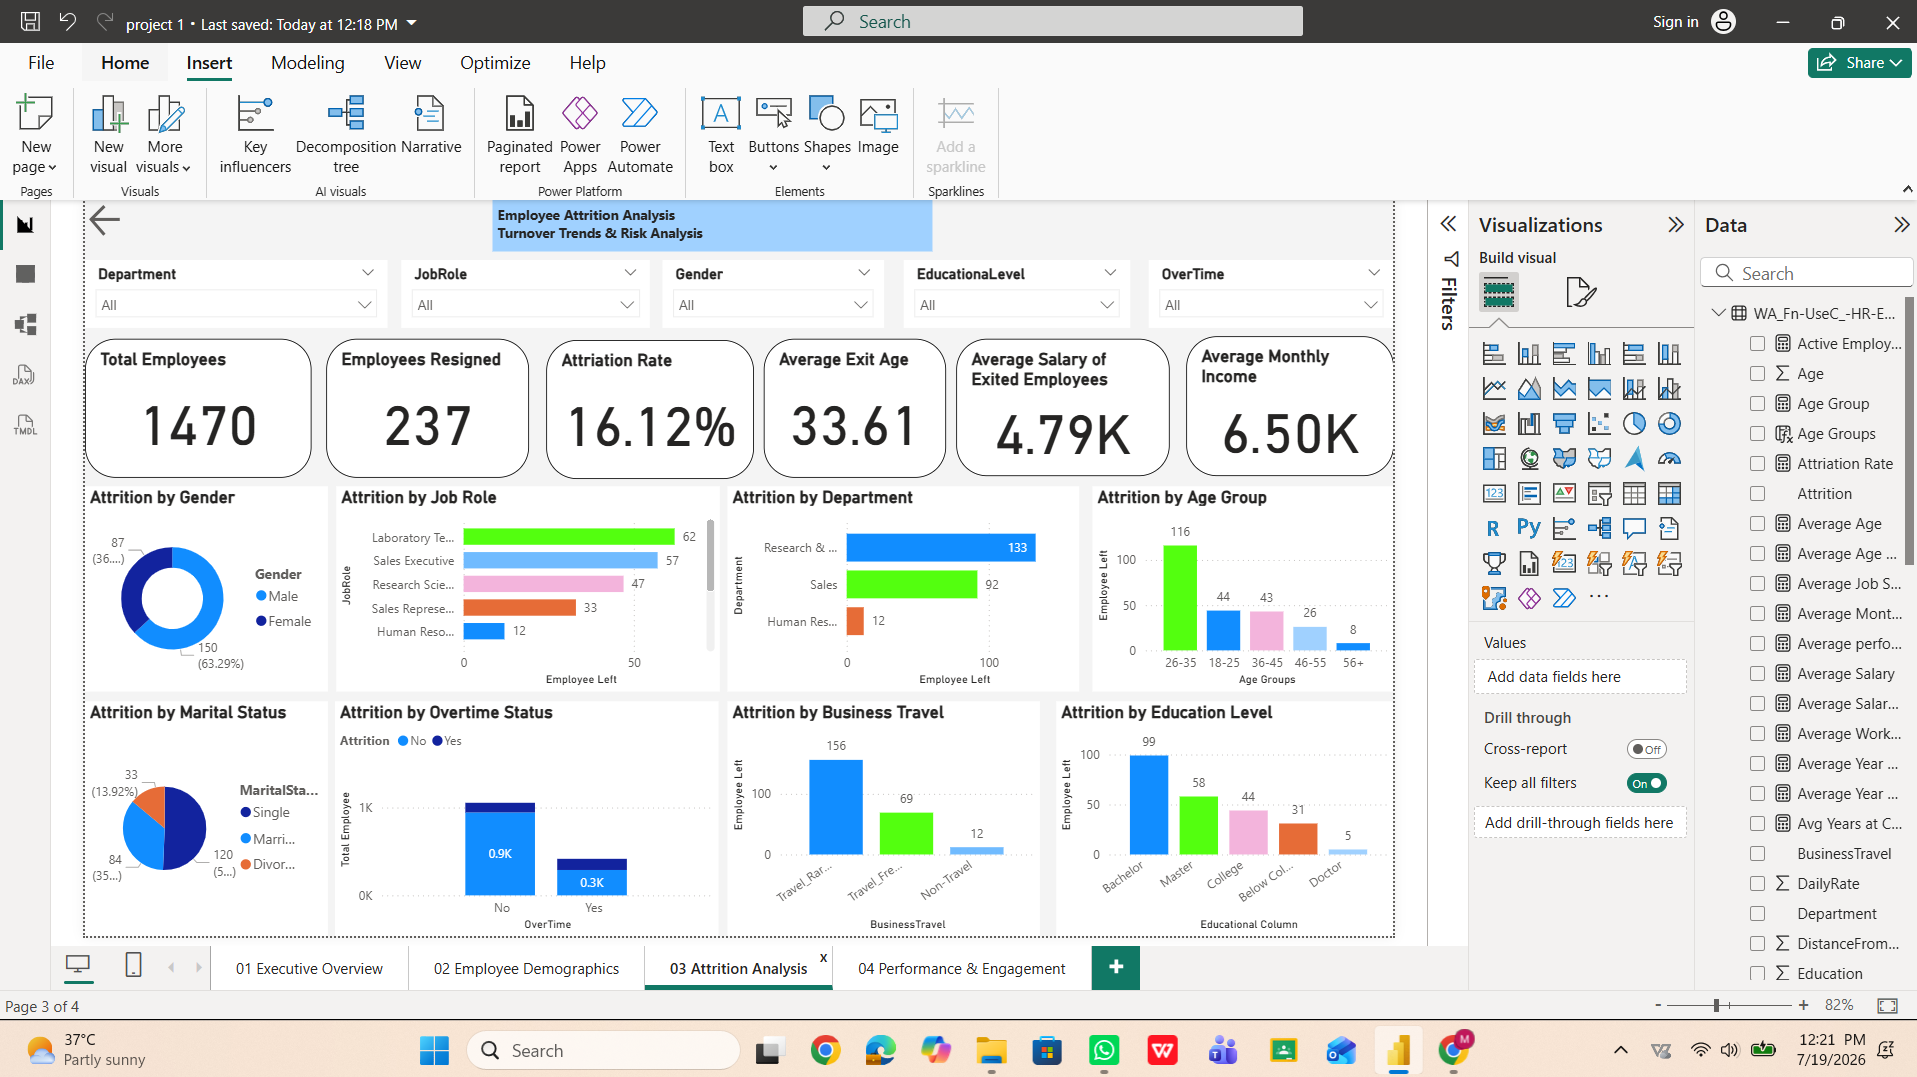

This screenshot's page, from the dashboard's own definition file:
{"tool":"powerbi","page":{"name":"03 Attrition Analysis","canvas":[1280,720],"ordinal":2},"visuals":[{"type":"slicer","fields":{"Values":["WA_Fn-UseC_-HR-Employee-Attrition.Department"]},"box":[0,58.7,295.9,66],"z":0},{"type":"slicer","fields":{"Values":["WA_Fn-UseC_-HR-Employee-Attrition.Gender"]},"box":[564.9,58.7,216.4,66],"z":1000},{"type":"slicer","fields":{"Values":["WA_Fn-UseC_-HR-Employee-Attrition.OverTime"]},"box":[1040.6,58.7,239.7,66],"z":2000},{"type":"slicer","fields":{"Values":["WA_Fn-UseC_-HR-Employee-Attrition.JobRole"]},"box":[309.4,58.7,243.3,66],"z":3000},{"type":"slicer","fields":{"Values":["WA_Fn-UseC_-HR-Employee-Attrition.Educational Column "]},"box":[801,58.7,221.3,66],"z":4000},{"type":"card","title":"Employees Resigned","fields":{"Values":["WA_Fn-UseC_-HR-Employee-Attrition.Employee Left"]},"box":[236,135.7,198.1,135.7],"z":5000},{"type":"card","title":"Attriation Rate ","fields":{"Values":["WA_Fn-UseC_-HR-Employee-Attrition.Attriation Rate"]},"box":[451.2,137,203,135.7],"z":6000},{"type":"card","title":"Average Exit Age ","fields":{"Values":["WA_Fn-UseC_-HR-Employee-Attrition.Average Age Left"]},"box":[664,135.7,178.5,135.7],"z":7000},{"type":"card","title":"Total Employees","fields":{"Values":["WA_Fn-UseC_-HR-Employee-Attrition.Total Employee"]},"box":[0,135.7,221.3,135.7],"z":8000},{"type":"card","title":"Average Salary of Exited Employees","fields":{"Values":["WA_Fn-UseC_-HR-Employee-Attrition.Average Salary Left"]},"box":[852.3,135.7,209.1,134.5],"z":9000},{"type":"card","title":"Average Monthly Income","fields":{"Values":["WA_Fn-UseC_-HR-Employee-Attrition.Average Monthly Income"]},"box":[1077.3,133.3,203,137],"z":10000},{"type":"clusteredBarChart","title":"Attrition by Department","fields":{"Category":["WA_Fn-UseC_-HR-Employee-Attrition.Department"],"Y":["WA_Fn-UseC_-HR-Employee-Attrition.Employee Left"]},"box":[628.5,280,343.6,200.5],"z":11000},{"type":"clusteredBarChart","title":"Attrition by Job Role","fields":{"Category":["WA_Fn-UseC_-HR-Employee-Attrition.JobRole"],"Y":["WA_Fn-UseC_-HR-Employee-Attrition.Employee Left"]},"box":[245.8,280,375.4,200.5],"z":12000},{"type":"columnChart","title":"Attrition by Age Group","fields":{"Category":["WA_Fn-UseC_-HR-Employee-Attrition.Age Groups"],"Y":["WA_Fn-UseC_-HR-Employee-Attrition.Employee Left"]},"box":[985.6,280,294.7,200.5],"z":13000},{"type":"columnChart","title":"Attrition by Overtime Status","fields":{"Category":["WA_Fn-UseC_-HR-Employee-Attrition.OverTime"],"Series":["WA_Fn-UseC_-HR-Employee-Attrition.Attrition"],"Y":["WA_Fn-UseC_-HR-Employee-Attrition.Total Employee"]},"box":[244.6,490.4,375.4,229.9],"z":14000},{"type":"donutChart","title":"Attrition by Gender","fields":{"Category":["WA_Fn-UseC_-HR-Employee-Attrition.Gender"],"Y":["WA_Fn-UseC_-HR-Employee-Attrition.Employee Left"]},"box":[0,280,237.2,200.5],"z":15000},{"type":"pieChart","title":"Attrition by Marital Status","fields":{"Category":["WA_Fn-UseC_-HR-Employee-Attrition.MaritalStatus"],"Y":["WA_Fn-UseC_-HR-Employee-Attrition.Employee Left"]},"box":[0,490.4,237.2,229.9],"z":16000},{"type":"clusteredColumnChart","title":"Attrition by Business Travel","fields":{"Category":["WA_Fn-UseC_-HR-Employee-Attrition.BusinessTravel"],"Y":["WA_Fn-UseC_-HR-Employee-Attrition.Employee Left"]},"box":[628.5,490.4,305.7,229.9],"z":17000},{"type":"clusteredColumnChart","title":"Attrition by Education Level","fields":{"Category":["WA_Fn-UseC_-HR-Employee-Attrition.Educational Column "],"Y":["WA_Fn-UseC_-HR-Employee-Attrition.Employee Left"]},"box":[950.1,490.4,330.2,229.9],"z":18000},{"type":"textbox","box":[398.6,0,430.4,50.1],"z":18001},{"type":"actionButton","box":[0,0,100,40],"z":18002}]}

Visuals, with their boxes on the page's 1280x720 design canvas (x1, y1, x2, y2). These are canvas units, not pixel positions in the 1917x1077 screenshot, which may show the page scaled, cropped or inside an application window:
slicer - WA_Fn-UseC_-HR-Employee-Attrition.Department: box=[0, 59, 296, 125]
slicer - WA_Fn-UseC_-HR-Employee-Attrition.Gender: box=[565, 59, 781, 125]
slicer - WA_Fn-UseC_-HR-Employee-Attrition.OverTime: box=[1041, 59, 1280, 125]
slicer - WA_Fn-UseC_-HR-Employee-Attrition.JobRole: box=[309, 59, 553, 125]
slicer - WA_Fn-UseC_-HR-Employee-Attrition.Educational Column : box=[801, 59, 1022, 125]
"Employees Resigned" card: box=[236, 136, 434, 271]
"Attriation Rate " card: box=[451, 137, 654, 273]
"Average Exit Age " card: box=[664, 136, 842, 271]
"Total Employees" card: box=[0, 136, 221, 271]
"Average Salary of Exited Employees" card: box=[852, 136, 1061, 270]
"Average Monthly Income" card: box=[1077, 133, 1280, 270]
"Attrition by Department" clusteredBarChart: box=[628, 280, 972, 480]
"Attrition by Job Role" clusteredBarChart: box=[246, 280, 621, 480]
"Attrition by Age Group" columnChart: box=[986, 280, 1280, 480]
"Attrition by Overtime Status" columnChart: box=[245, 490, 620, 720]
"Attrition by Gender" donutChart: box=[0, 280, 237, 480]
"Attrition by Marital Status" pieChart: box=[0, 490, 237, 720]
"Attrition by Business Travel" clusteredColumnChart: box=[628, 490, 934, 720]
"Attrition by Education Level" clusteredColumnChart: box=[950, 490, 1280, 720]
textbox: box=[399, 0, 829, 50]
actionButton: box=[0, 0, 100, 40]
